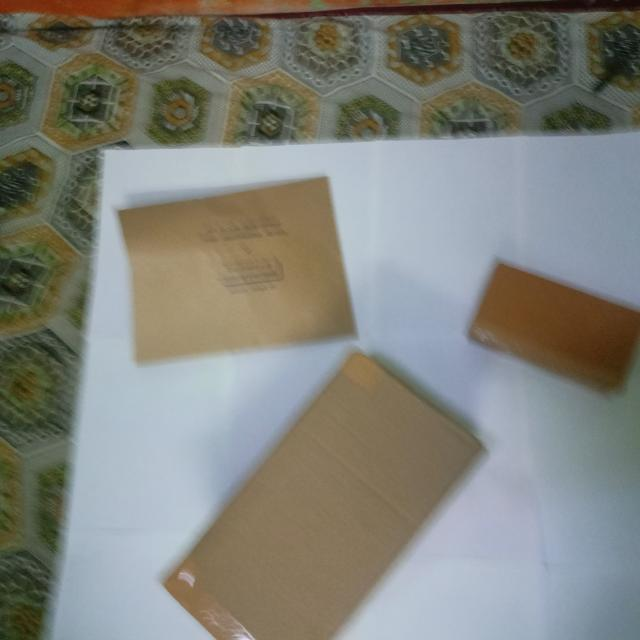box: (193, 272, 640, 583)
